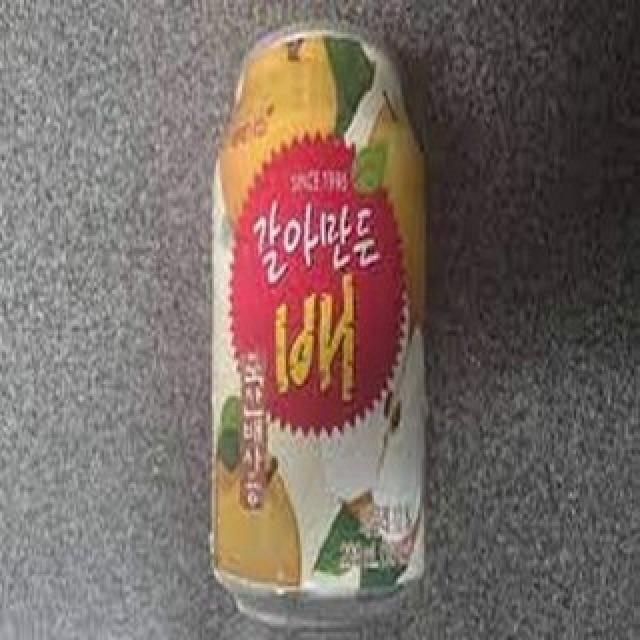can: (212, 20, 426, 631)
